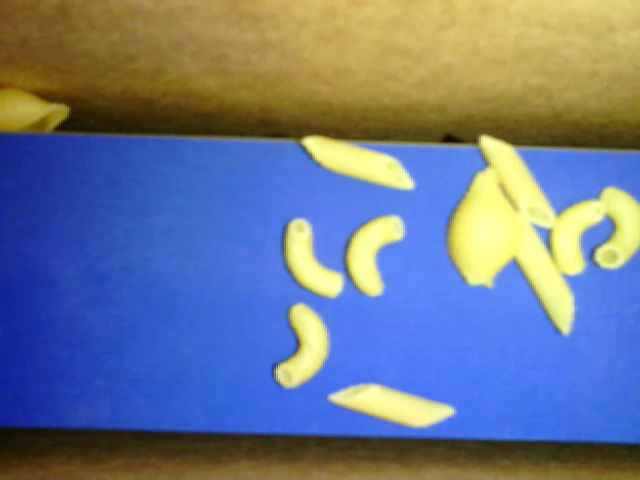elbow: (274, 300, 332, 390), (345, 213, 407, 296), (283, 215, 343, 297), (551, 193, 608, 272), (595, 183, 639, 270)
penne: (509, 217, 576, 336), (476, 134, 551, 228), (296, 133, 415, 192), (322, 383, 454, 430)
shell: (447, 165, 517, 288), (1, 89, 77, 128)
